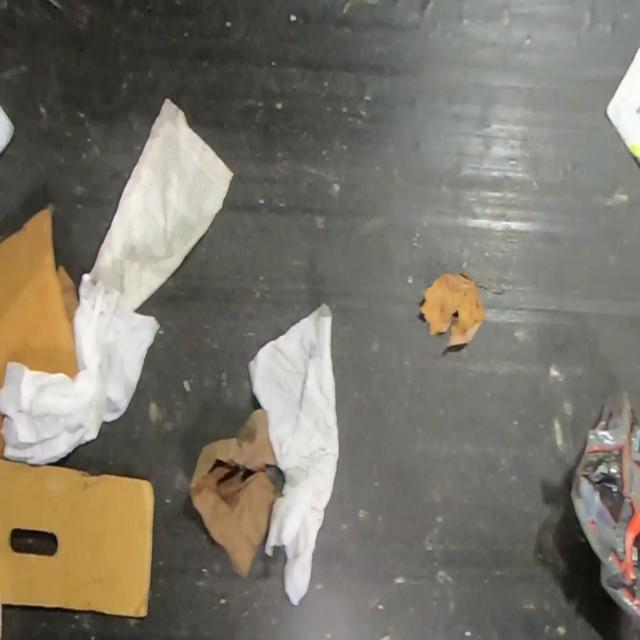cardboard: (0, 455, 155, 618), (0, 200, 82, 396)
soft_plastic: (568, 385, 640, 628)
